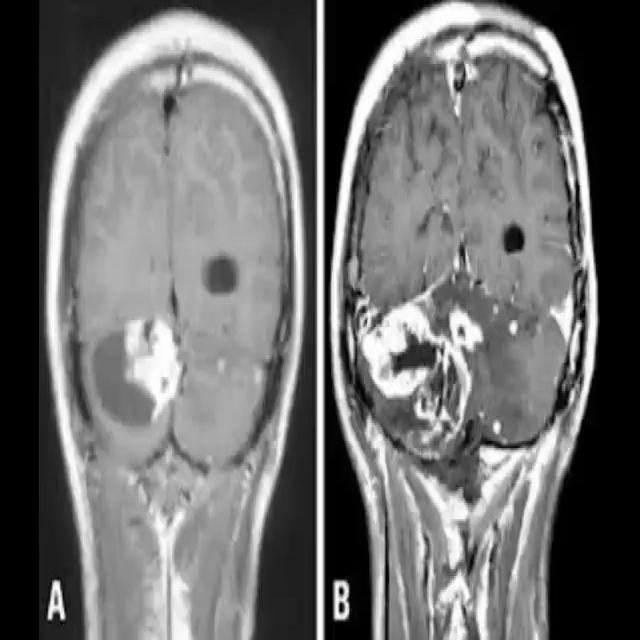tumor: (458, 162, 544, 300)
